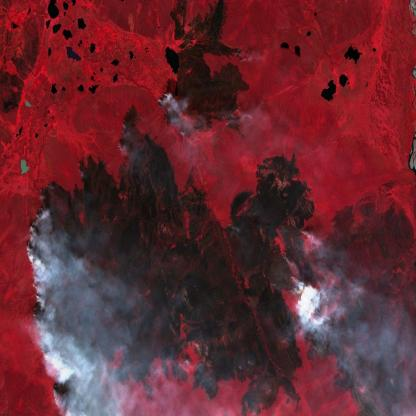fire: (26, 187, 54, 333), (153, 87, 183, 129), (287, 274, 309, 304), (50, 378, 66, 410), (276, 249, 294, 272), (298, 229, 311, 243)
